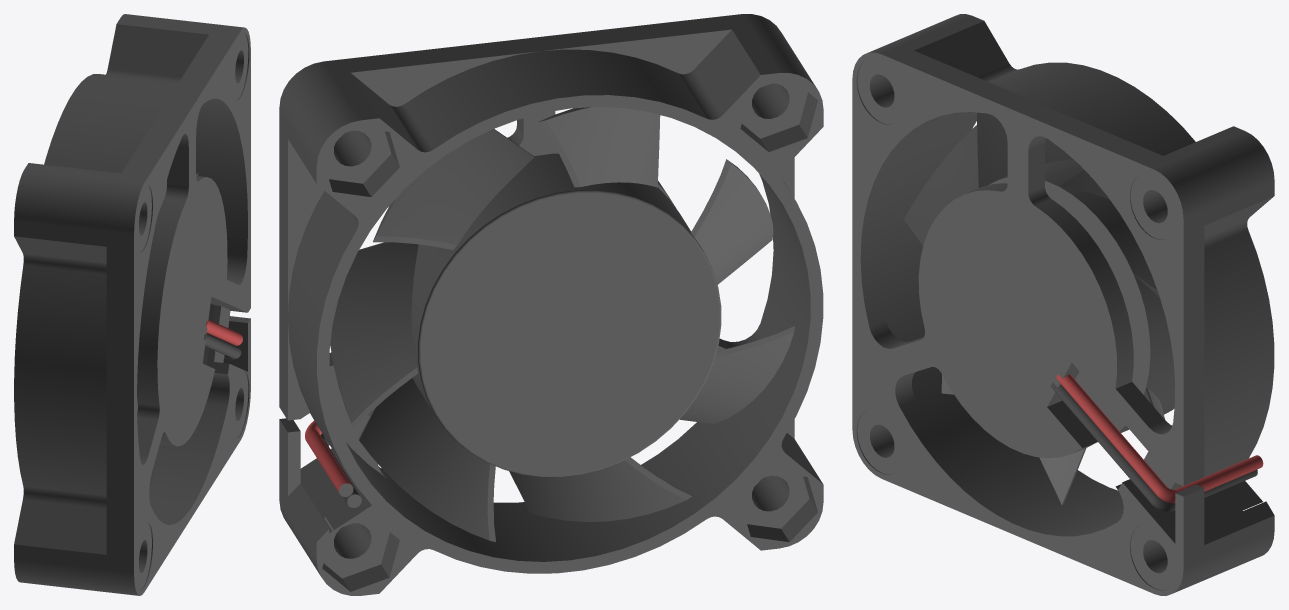
3 views of the same model, side by side, from view 1: azimuth 30°, elevation 25°; view 2: azimuth 150°, elevation 25°; view 3: azimuth 270°, elevation 25° (orthographic). The views are drawn at different scales.
Visible parts, largest first — view 1: Extruder_BigCoolingFan_Case; view 2: Extruder_BigCoolingFan_Blade, Extruder_BigCoolingFan_Case; view 3: Extruder_BigCoolingFan_Case, Extruder_BigCoolingFan_Blade.
Part boxes in pixels (box(x1,y1,x2,y2)): Extruder_BigCoolingFan_Case: box(14, 14, 250, 595); Extruder_BigCoolingFan_Blade: box(330, 107, 794, 541); Extruder_BigCoolingFan_Case: box(279, 14, 823, 595); Extruder_BigCoolingFan_Case: box(852, 14, 1274, 595); Extruder_BigCoolingFan_Blade: box(904, 112, 1174, 504).
Bounding box in the file's own units: 3.61 × 4 × 3.61.
